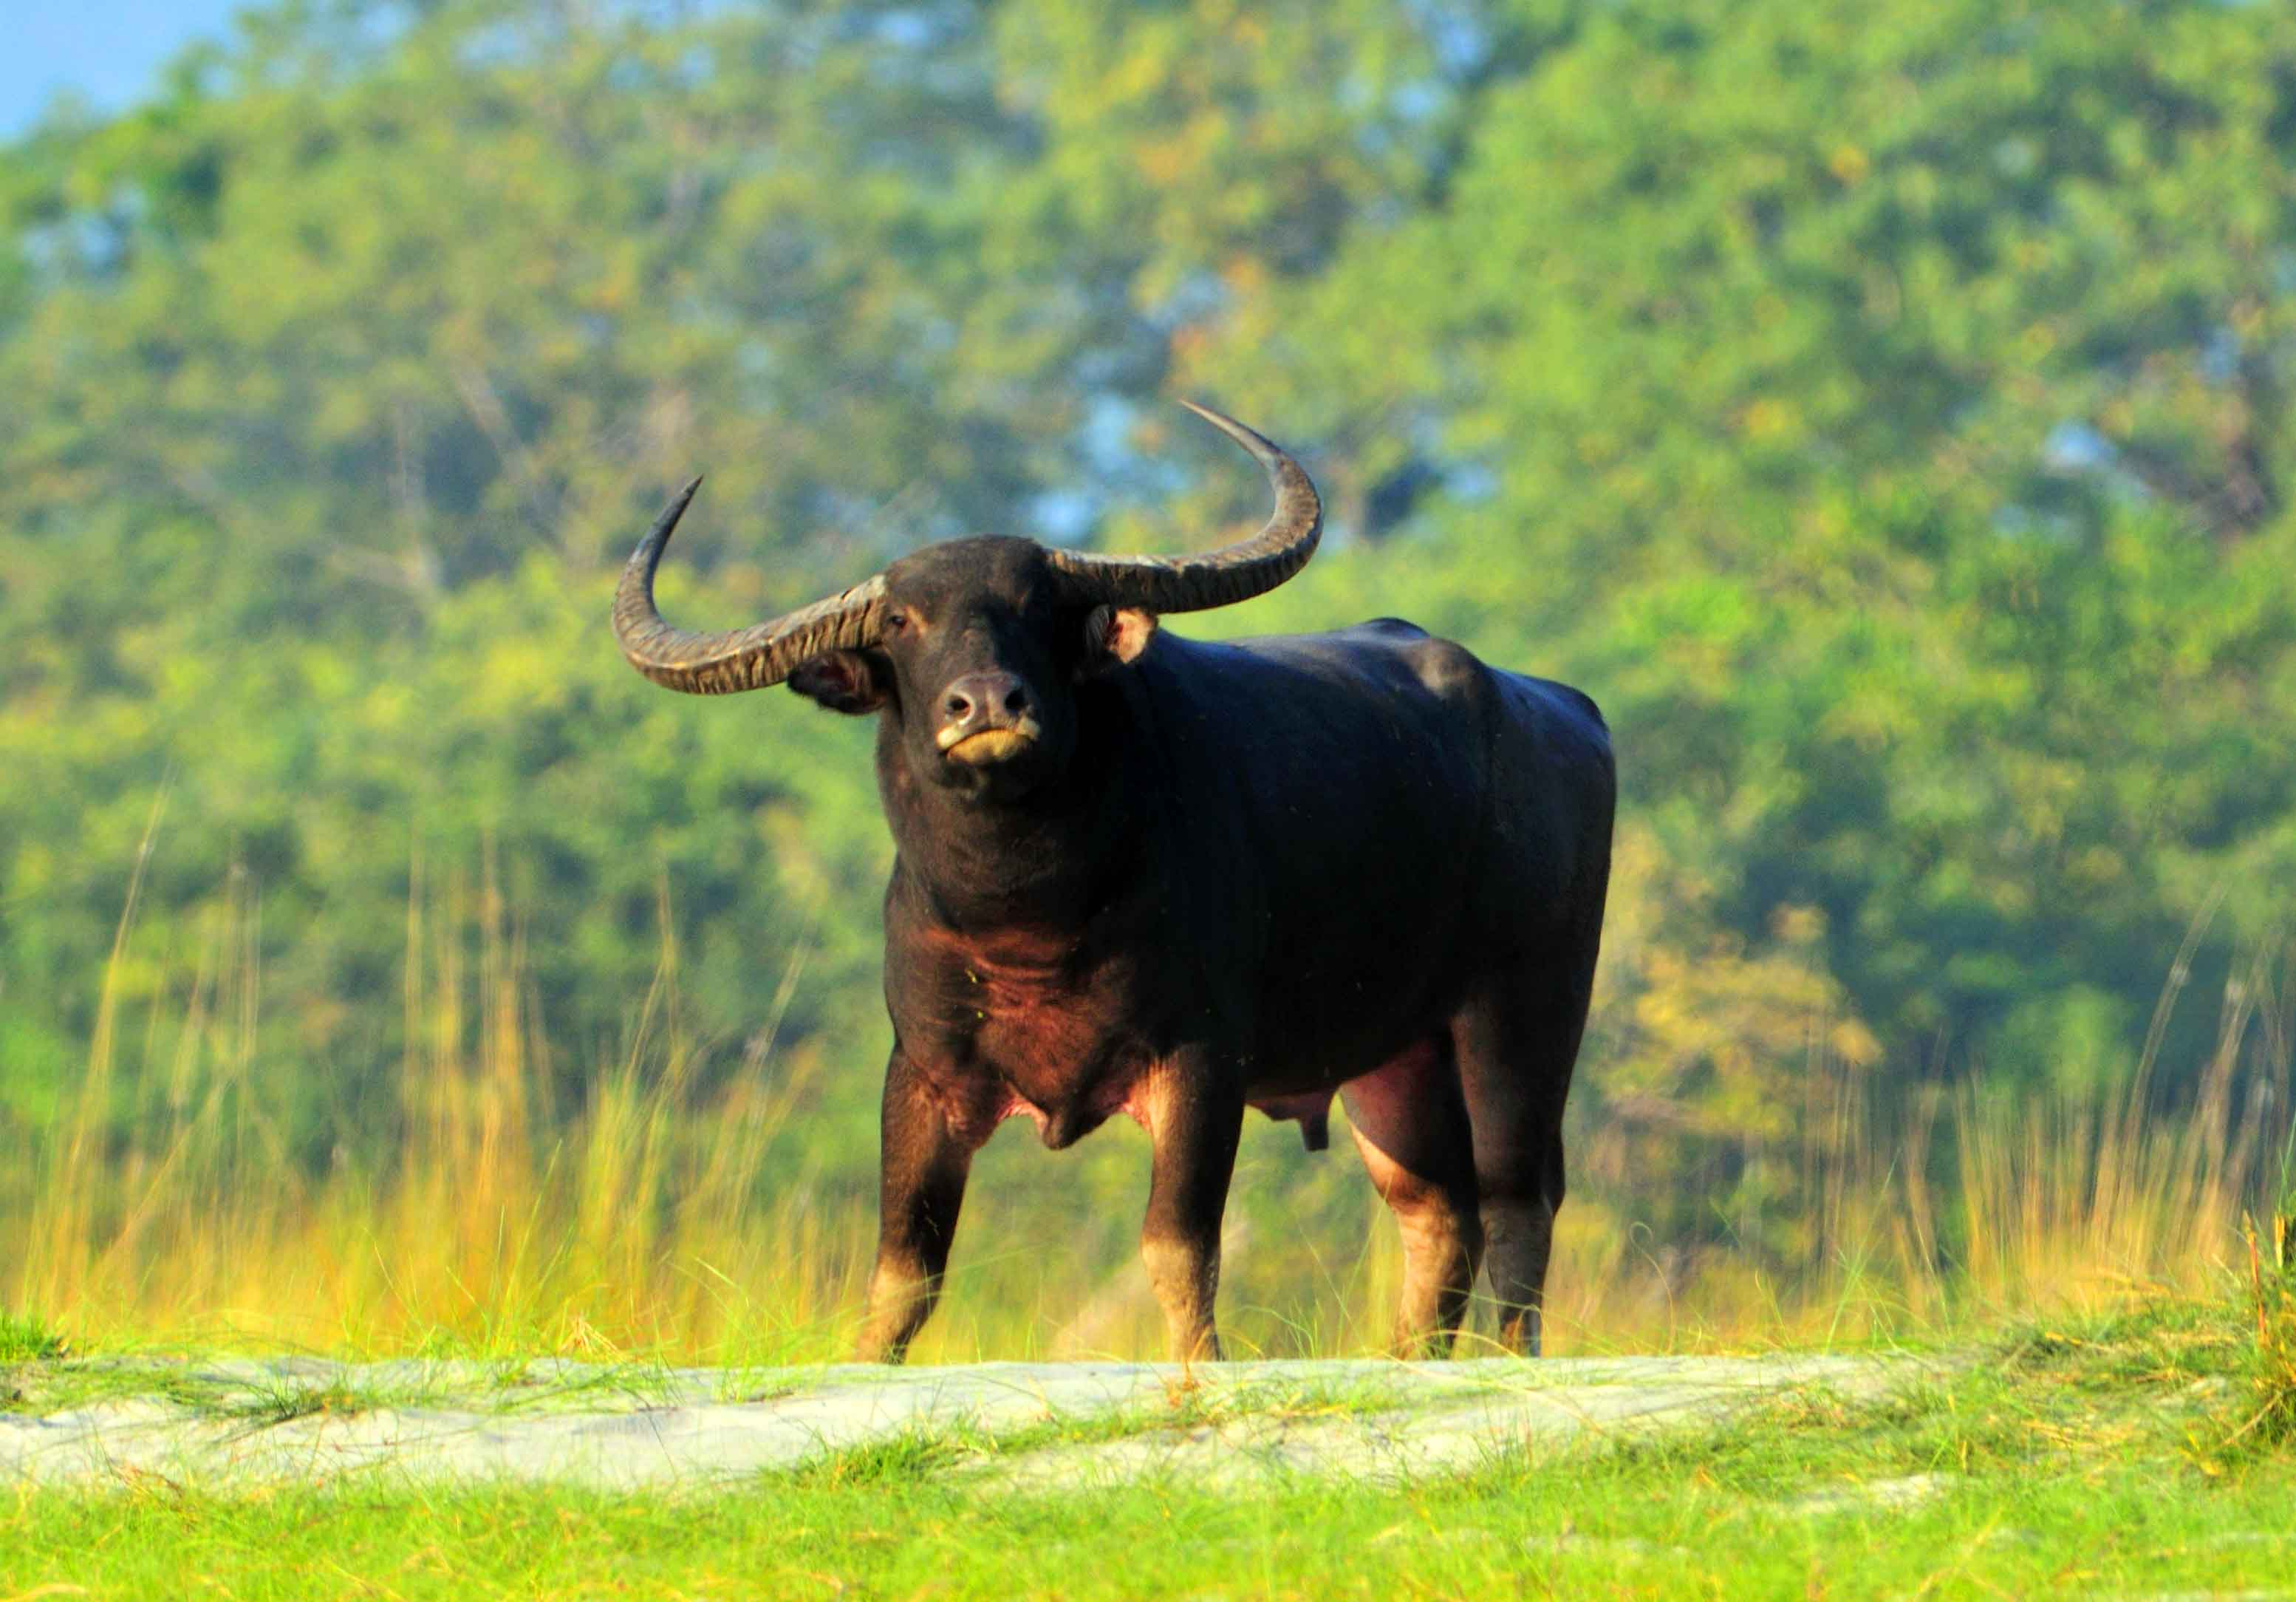buffalo: (619, 387, 1617, 1380)
